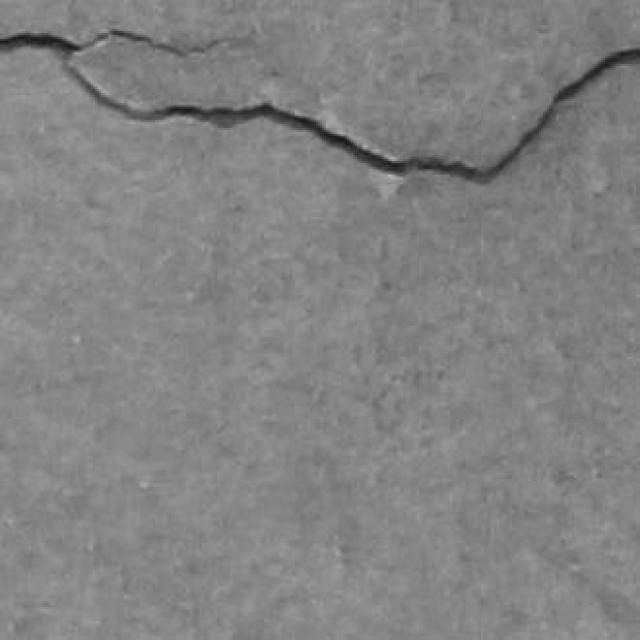crack: (0, 32, 639, 182)
